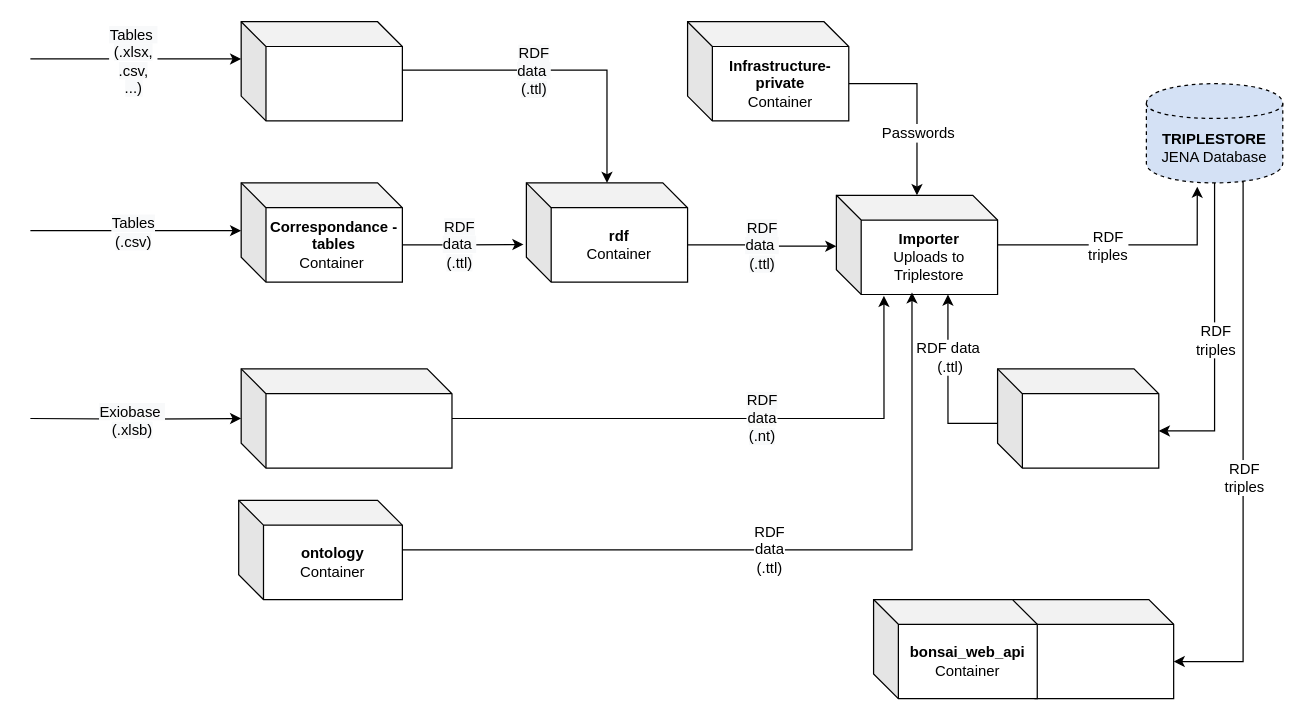
Image size: 1304x720. Some labels were removed from this diagram. Each missing label, with the centre of its shape:
"Arborist Converter" goes at (321,70).
"bonsai_api Container" goes at (1091,648).
"EXIOBASE-conversion-software Converter" goes at (346,418).
"mojo Creates a system model" goes at (1077,418).
